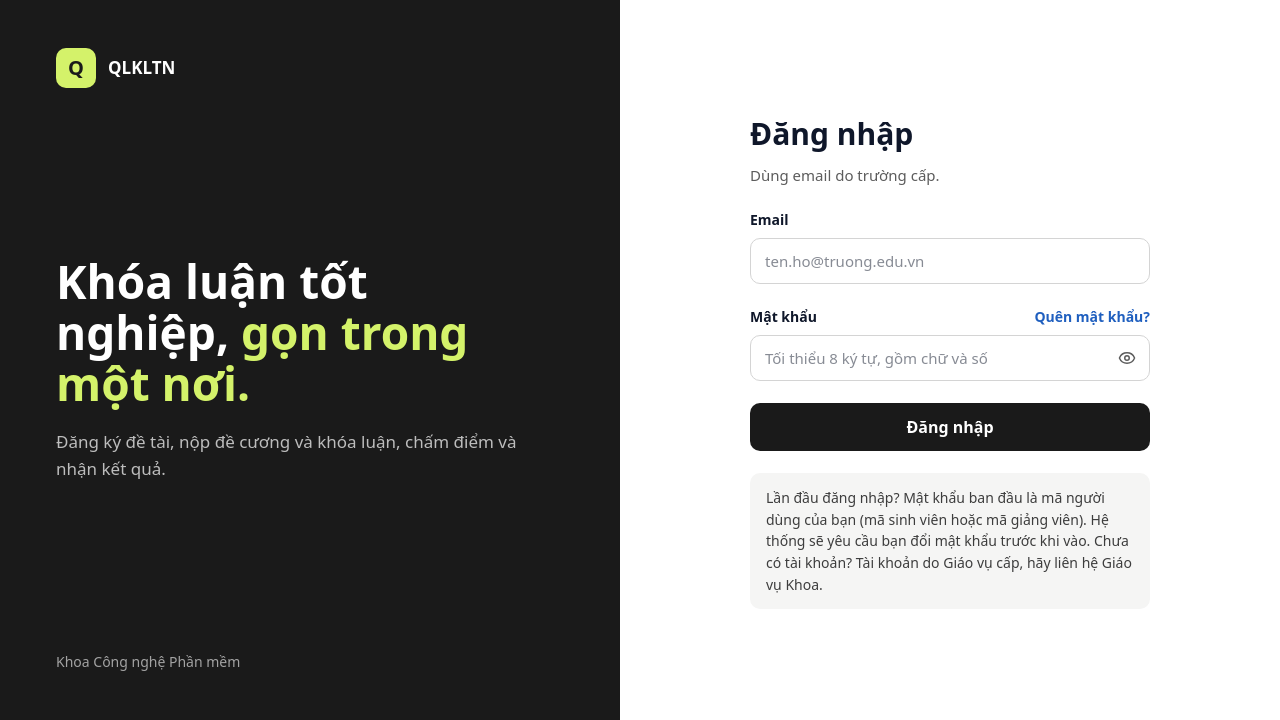
Test: explains a network failure
Type "an.nv@truong.edu.vn" into the field labelled "Email".
click(950, 261); type("an.nv@truong.edu.vn")  # box x1=750 y1=238 x2=1150 y2=284
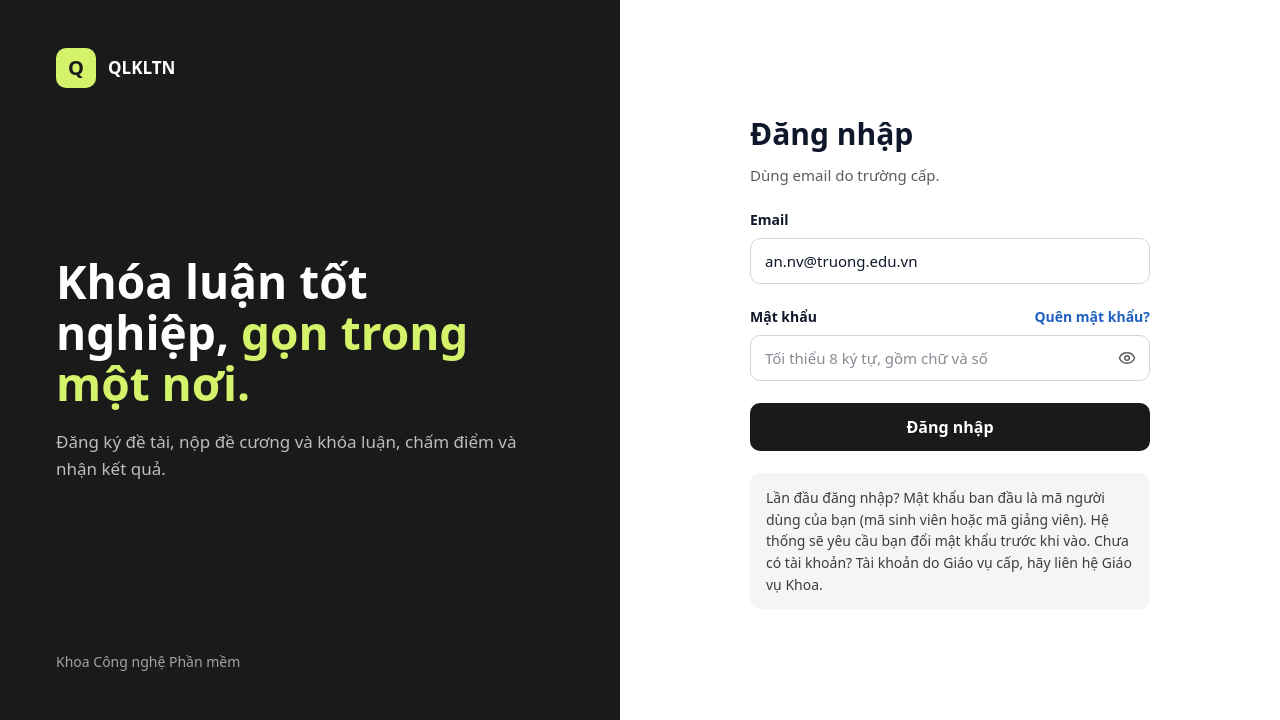
Type "matkhau123" into the password field labelled "Mật khẩu".
click(950, 358); type("matkhau123")  # box x1=750 y1=335 x2=1150 y2=381
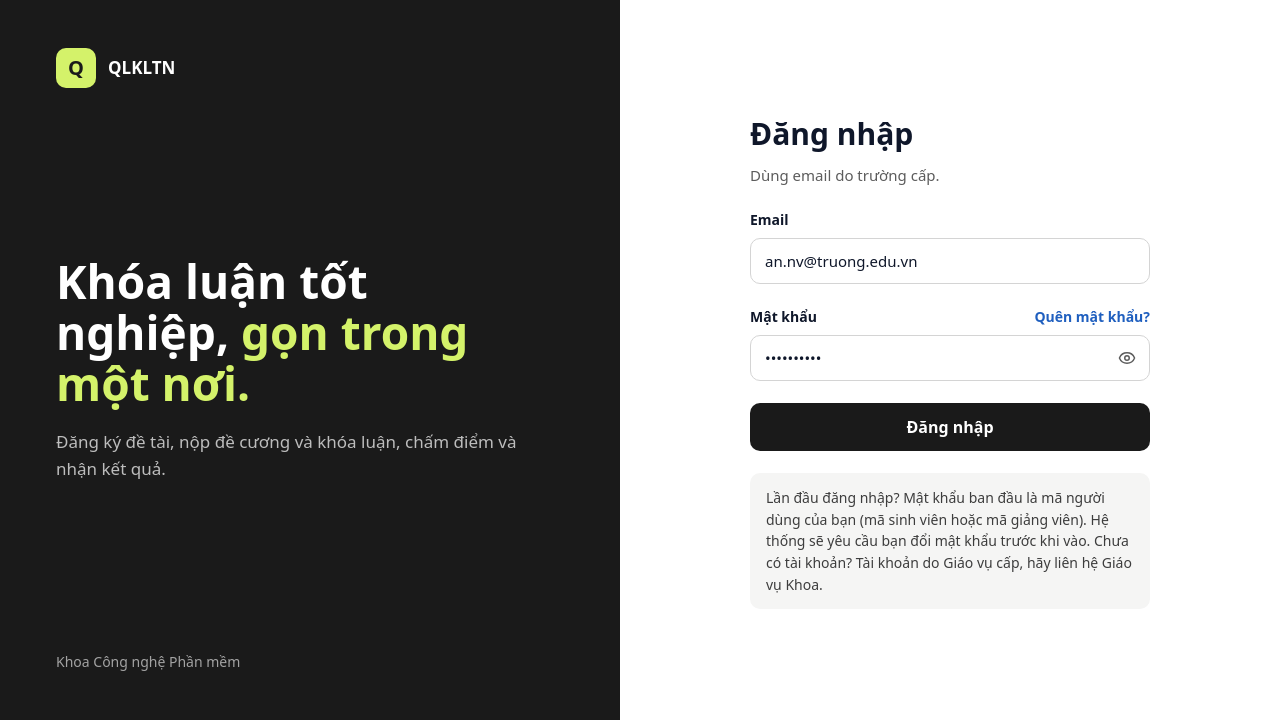
Click the button "Đăng nhập".
click(950, 427)  # box x1=750 y1=403 x2=1150 y2=451
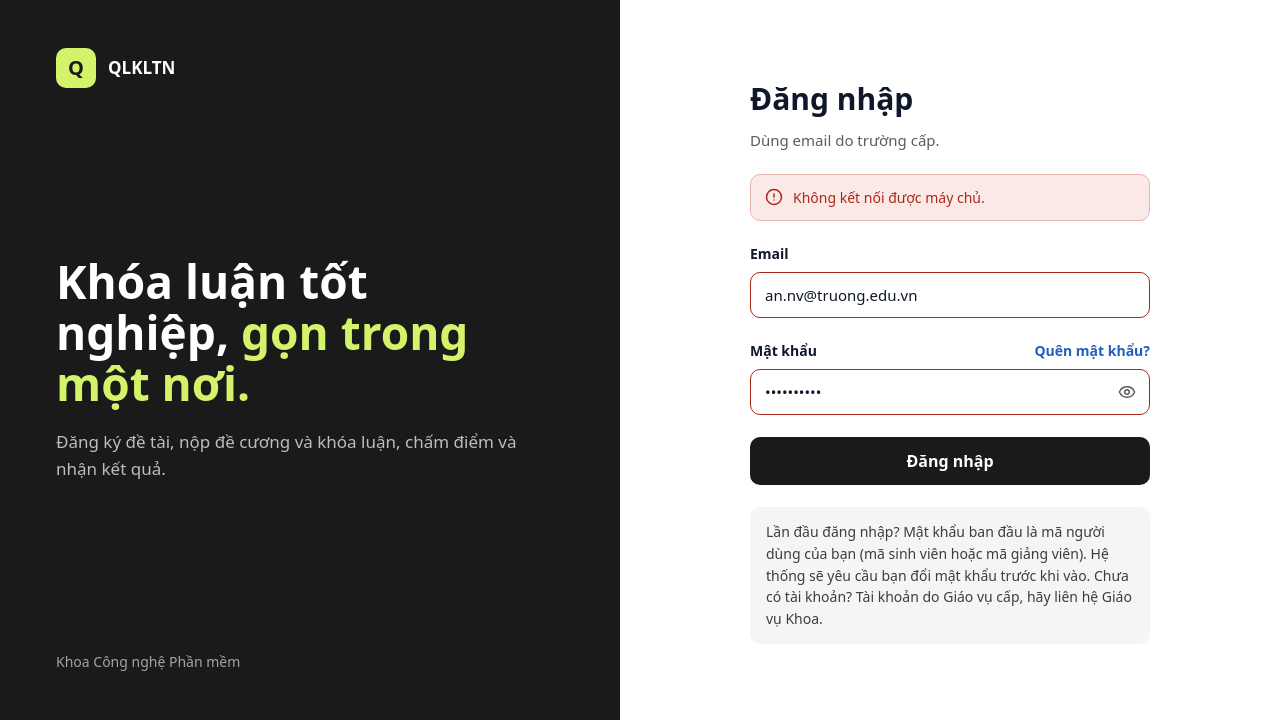
Expected: the message reads "Không kết nối được máy chủ.", x1=793 y1=188 x2=985 y2=207
